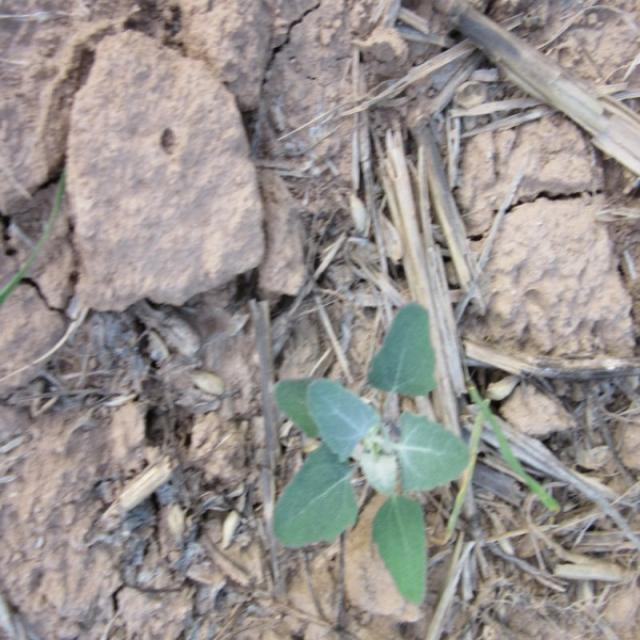ca: (274, 306, 471, 606)
